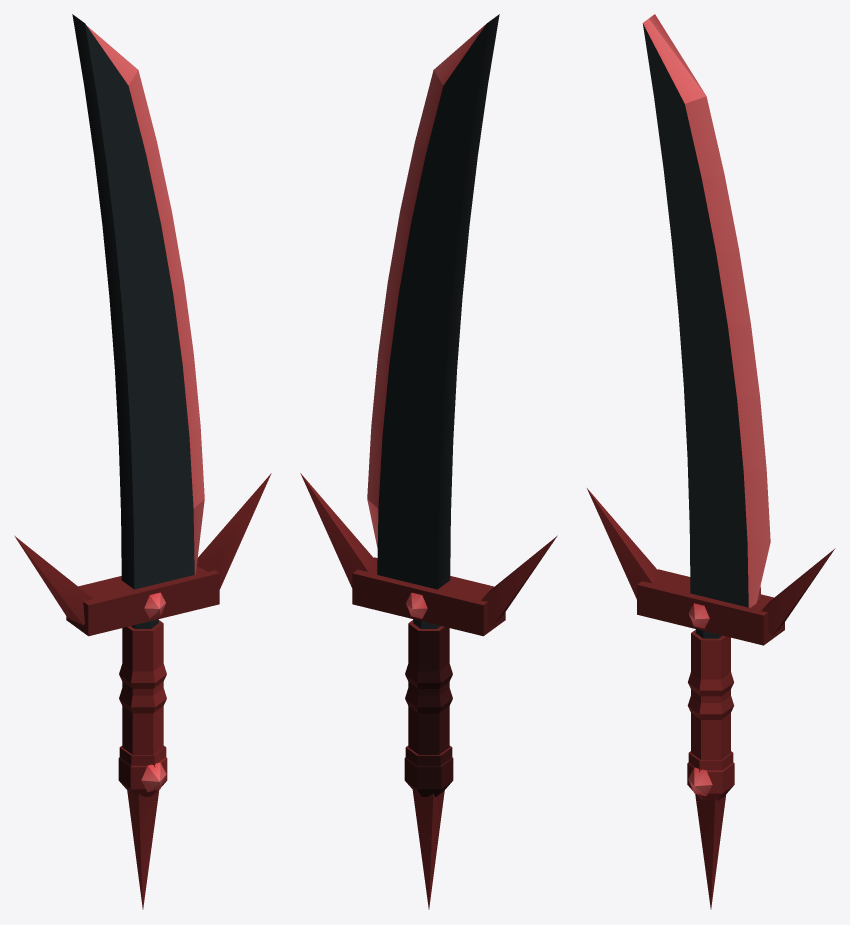
The model's file is rogue_nightblade_3.gltf.
The picture shows the model from 3 angles, left to right: view 1: azimuth 30°, elevation 25°; view 2: azimuth 150°, elevation 25°; view 3: azimuth 330°, elevation 25°; orthographic projection. The views are drawn at different scales.
Visible parts, largest first — view 1: rogue_nightblade_3; view 2: rogue_nightblade_3; view 3: rogue_nightblade_3.
Boxes of the visible parts, x1=… form: rogue_nightblade_3: x1=14, y1=14, x2=271, y2=909; rogue_nightblade_3: x1=300, y1=14, x2=557, y2=909; rogue_nightblade_3: x1=587, y1=14, x2=835, y2=909.
Size of the model in its own units: 0.61 by 2.05 by 0.1382.
1 material, 1 textured.
